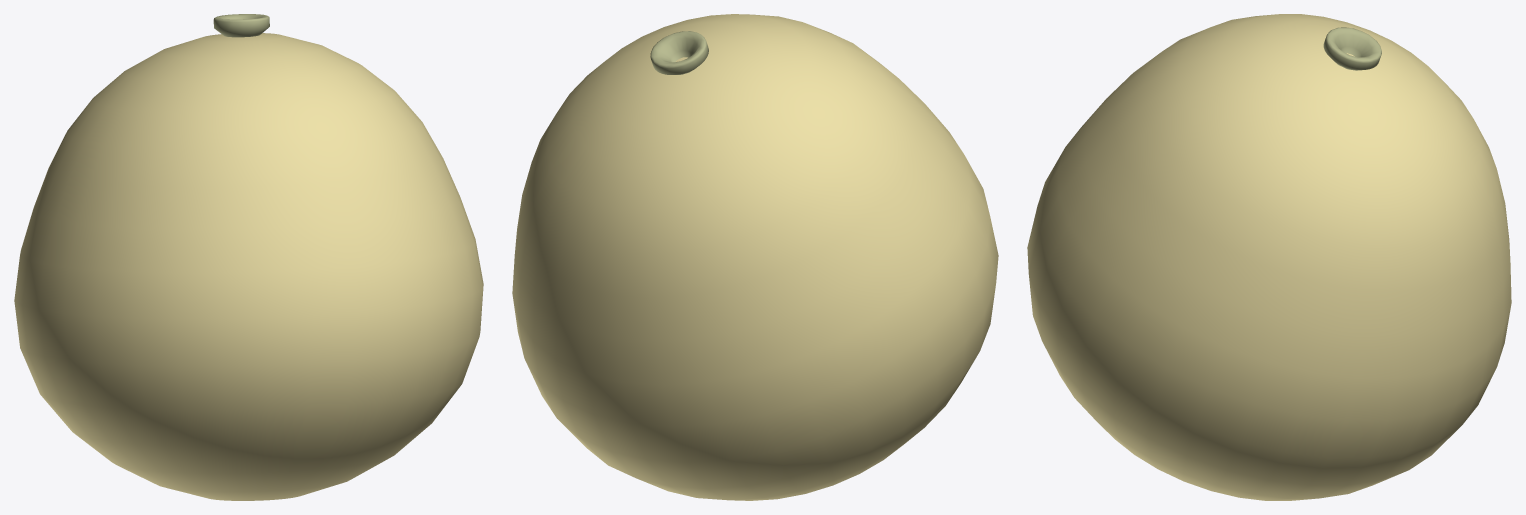
Rendered from Yellow Balloon.fbx.
3 views of the same model, side by side, from view 1: azimuth 30°, elevation 25°; view 2: azimuth 150°, elevation 25°; view 3: azimuth 270°, elevation 25° (orthographic). The views are drawn at different scales.
Visible parts, largest first — view 1: Yellow_B; view 2: Yellow_B; view 3: Yellow_B.
Part boxes in pixels (x1,y1,x2,y2): Yellow_B: [14, 14, 483, 500]; Yellow_B: [512, 14, 998, 500]; Yellow_B: [1027, 14, 1511, 500].
Size of the model in its own units: 105 by 108 by 104.
